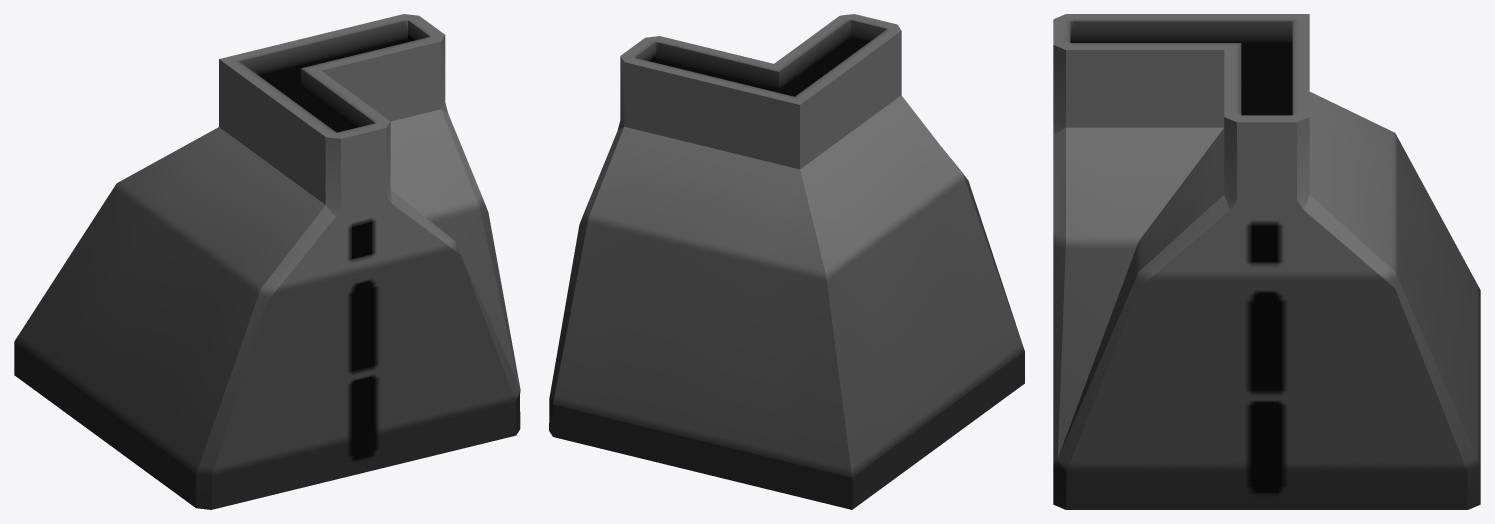
The model's file is wall_double_one_corner1.fbx.
3 renders of one model, left to right at view 1: azimuth 30°, elevation 25°; view 2: azimuth 150°, elevation 25°; view 3: azimuth 270°, elevation 25°, orthographic. The views are drawn at different scales.
Parts seen in each view (by area): view 1: wall_double_one_corner1; view 2: wall_double_one_corner1; view 3: wall_double_one_corner1.
Boxes of the visible parts, x1,y1,x2,y2 form: wall_double_one_corner1: [14, 14, 520, 509]; wall_double_one_corner1: [549, 14, 1024, 509]; wall_double_one_corner1: [1053, 14, 1480, 509].
Size of the model in its own units: 1 by 1 by 1.
Materials: 1 (1 with a texture image).
